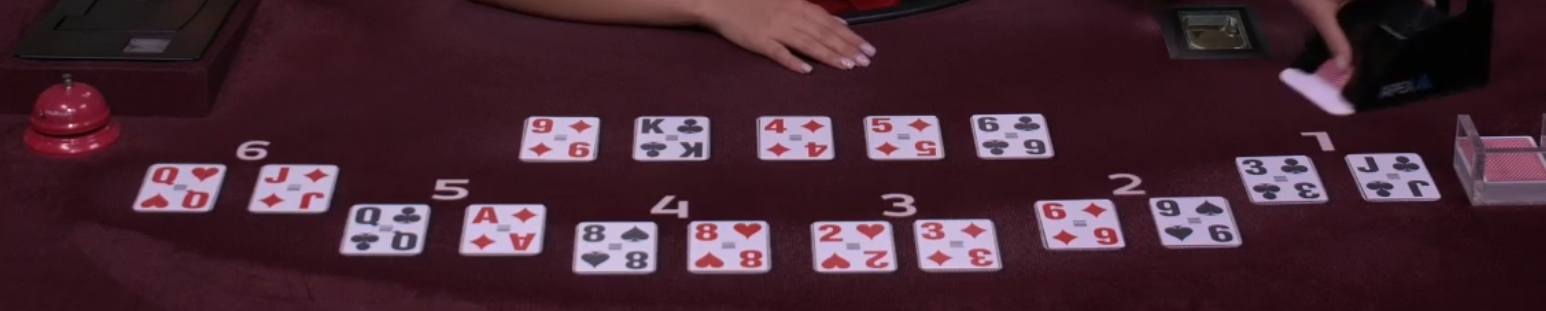2h: (804, 215, 901, 276)
3c: (1231, 152, 1332, 212)
3d: (906, 215, 1012, 276)
4d: (754, 110, 840, 164)
5d: (860, 108, 954, 168)
6c: (967, 106, 1062, 168)
6d: (1027, 192, 1126, 257)
8h: (676, 219, 772, 278)
8s: (568, 216, 664, 278)
9d: (514, 113, 607, 168)
9s: (1147, 194, 1244, 256)
asd: (461, 200, 547, 257)
jc: (1350, 148, 1443, 208)
jd: (248, 155, 336, 219)
kc: (631, 112, 717, 167)
qc: (334, 200, 427, 262)
qh: (134, 153, 228, 217)
